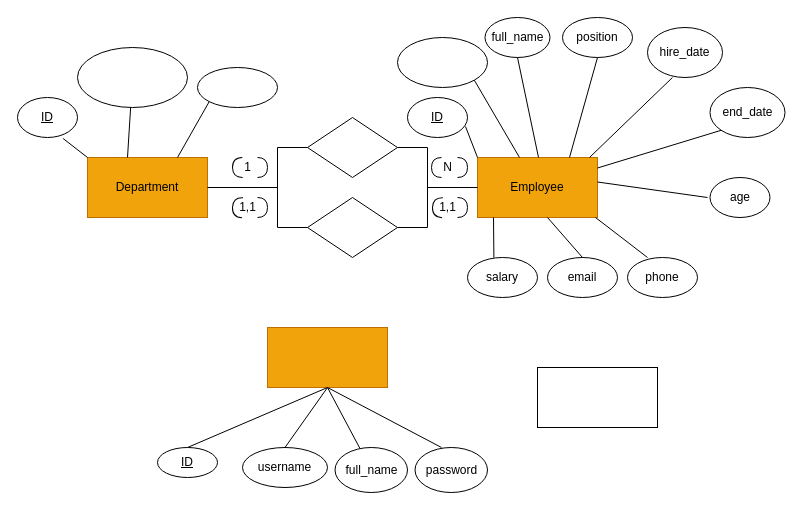
This 803x510 diagram has some shape labels left out. Each missing label, with the box of its shape:
address: (196, 66, 278, 108)
Admin: (266, 326, 388, 388)
department_name: (76, 46, 188, 108)
employee_code: (396, 36, 488, 88)
have: (306, 116, 398, 178)
Managed by: (306, 196, 398, 258)
Nhóm 2: (536, 366, 658, 428)
